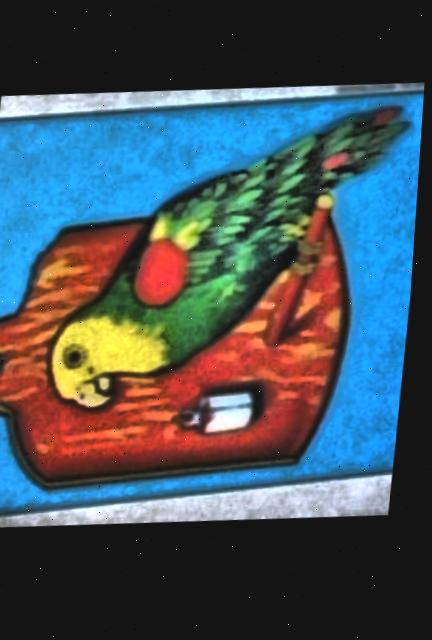El Cotorro: (0, 102, 425, 515)
